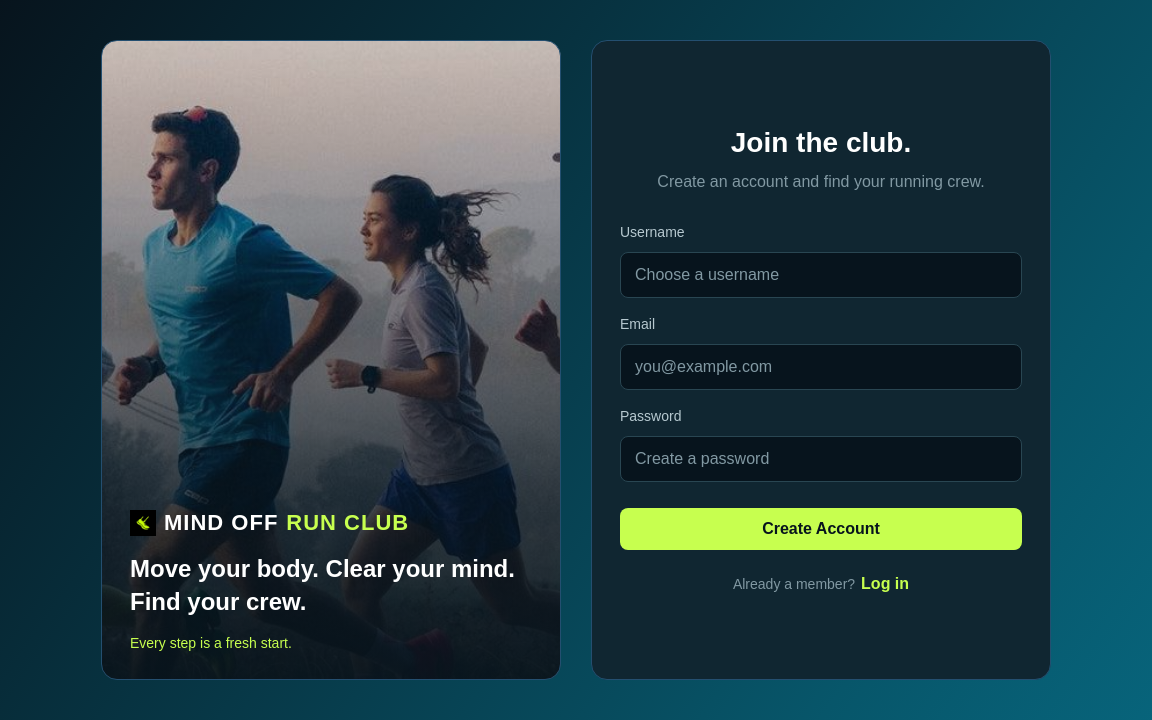
Signup component › asks the user to confirm their email when no session is returned
This screenshot has width=1152, height=720.
Type "runner123" into the field labelled "Username". click: (821, 275)
box: [620,252,1022,298]
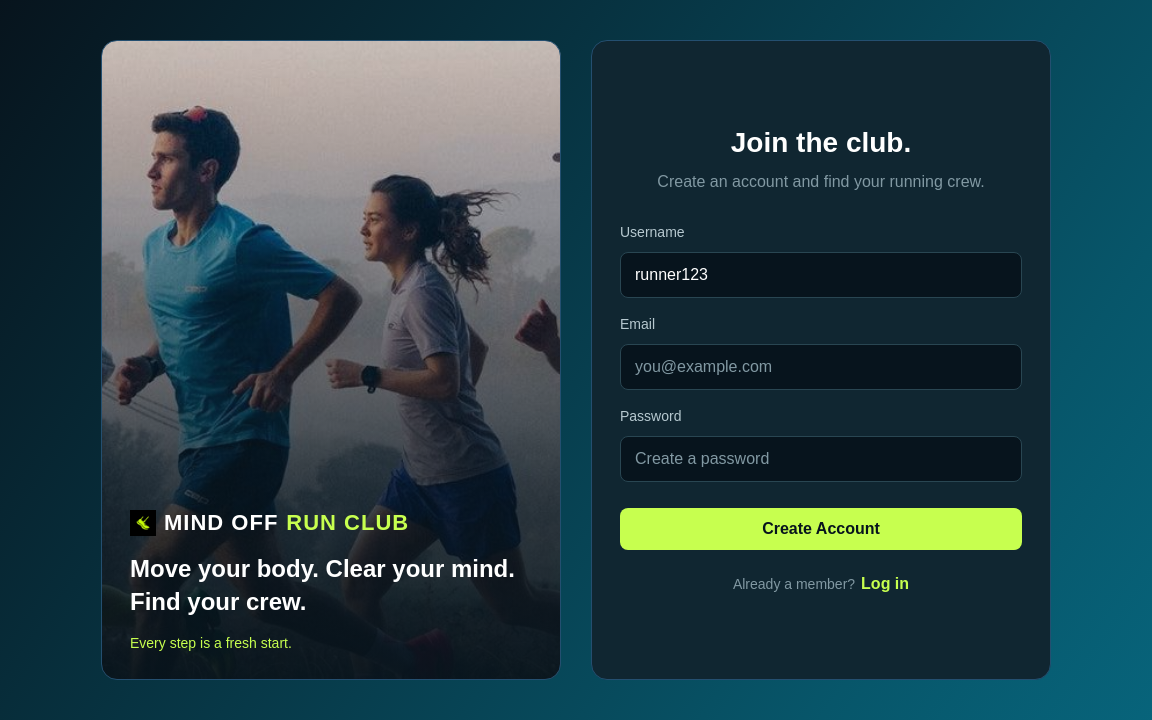
Type "runner@example.com" into the field labelled "Email". click: (821, 367)
box: [620,344,1022,390]
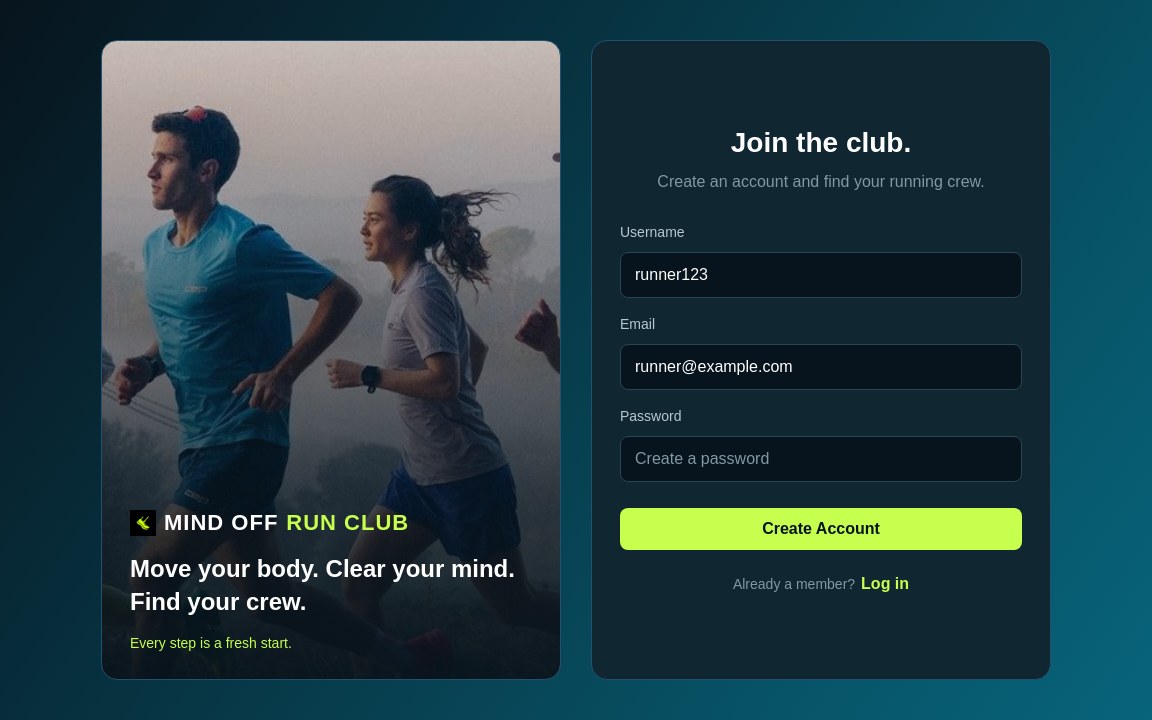
Type "password123" into the password field labelled "Password". click: (821, 459)
box: [620,436,1022,482]
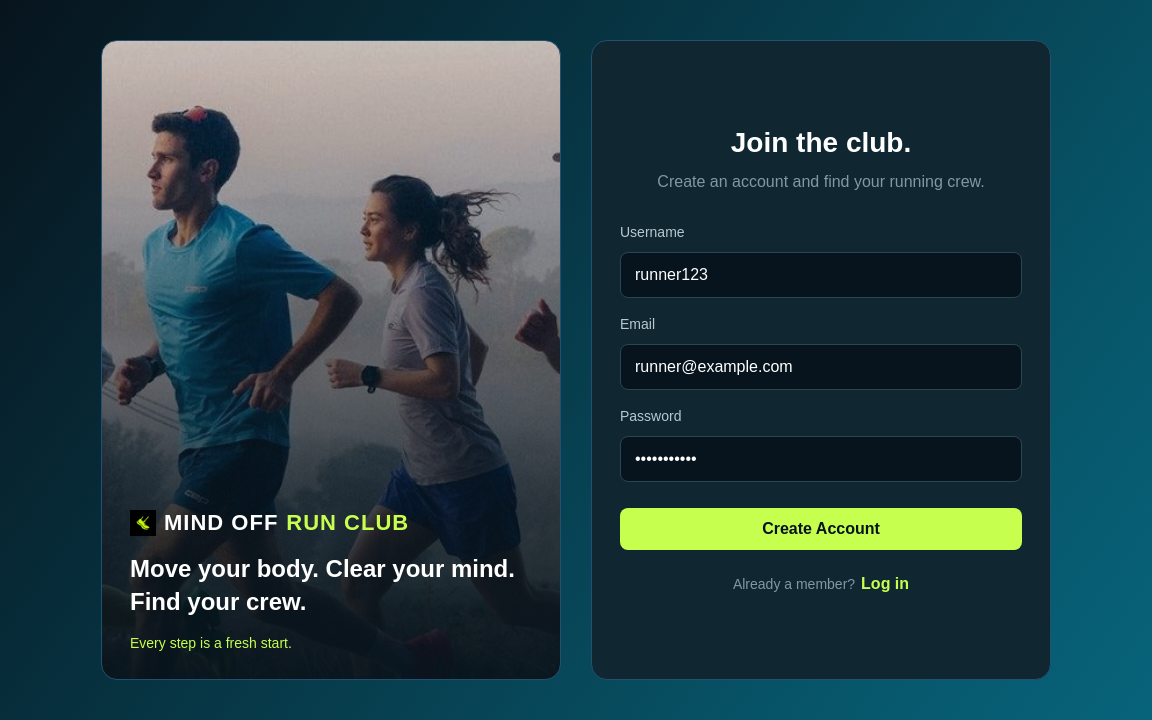
Click the button "Create Account". click: (821, 529)
box: [620,508,1022,550]
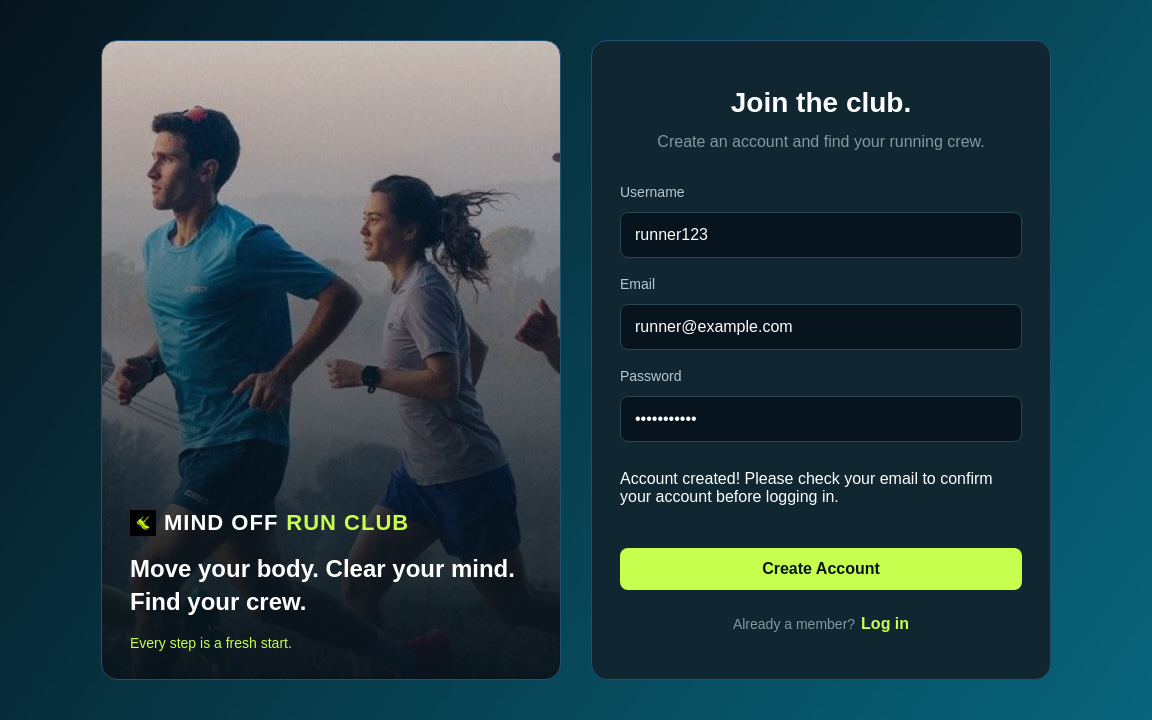
Expected: the message shows "Please check your email to confirm your account before logging in.", [620,470,993,505]
